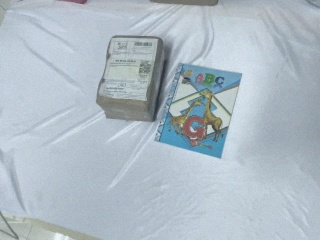book: (152, 61, 244, 159)
box: (95, 34, 166, 122)
